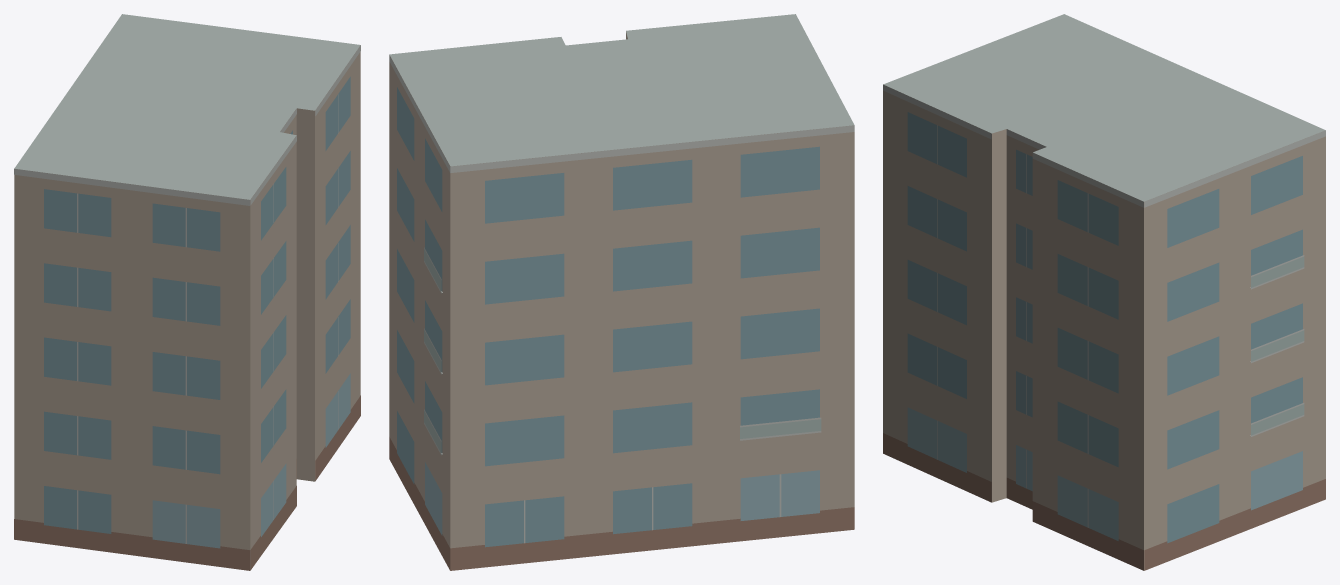
The model's file is survey-upis-33031209.glb.
3 views of the same model, side by side, from view 1: azimuth 30°, elevation 25°; view 2: azimuth 150°, elevation 25°; view 3: azimuth 270°, elevation 25° (orthographic). The views are drawn at different scales.
Parts seen in each view (by area): view 1: survey-upis-33031209.tmp; view 2: survey-upis-33031209.tmp; view 3: survey-upis-33031209.tmp.
Boxes of the visible parts, <box> form: survey-upis-33031209.tmp: <box>14,14,360,570</box>; survey-upis-33031209.tmp: <box>389,14,854,570</box>; survey-upis-33031209.tmp: <box>883,14,1325,570</box>.
Size of the model in its own units: 16.04 by 14.7 by 15.99.
